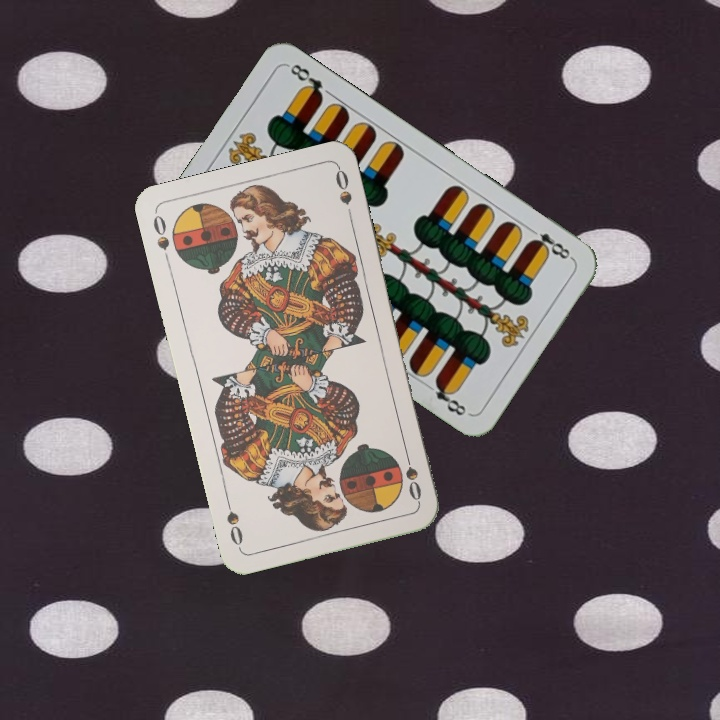E8: (524, 223, 576, 263)
SO: (149, 211, 174, 268), (400, 447, 424, 505)
